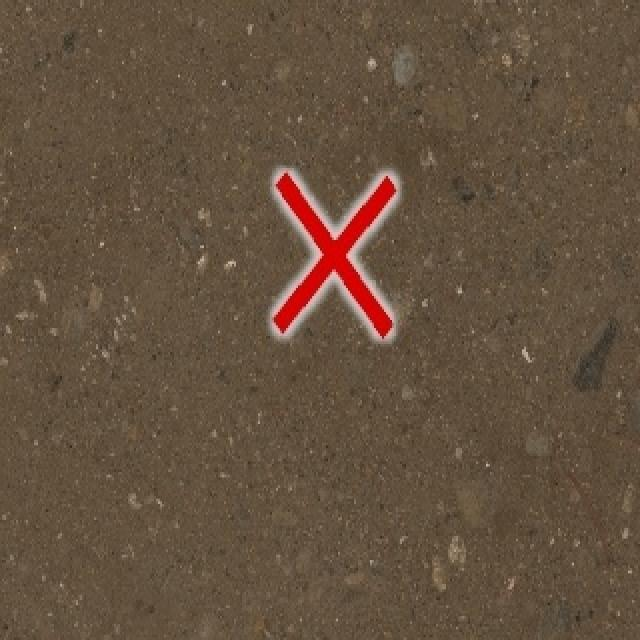x_marker: (273, 172, 395, 335)
